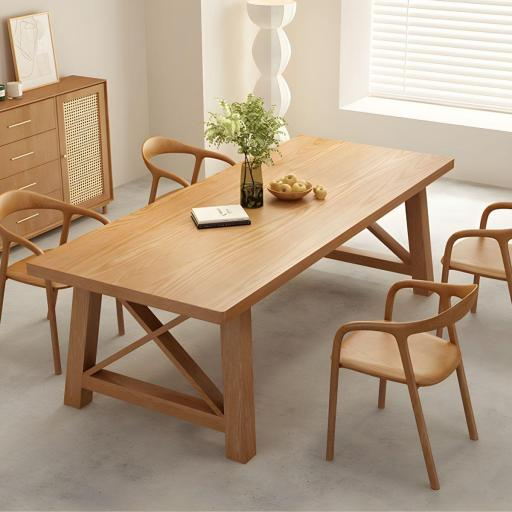table: (28, 133, 459, 423)
